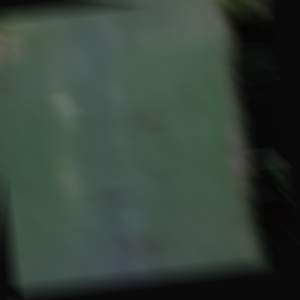Bacterial_Leaf_Blight: (107, 231, 163, 255), (126, 106, 170, 134), (47, 90, 84, 115), (99, 185, 136, 209), (0, 72, 21, 97)
